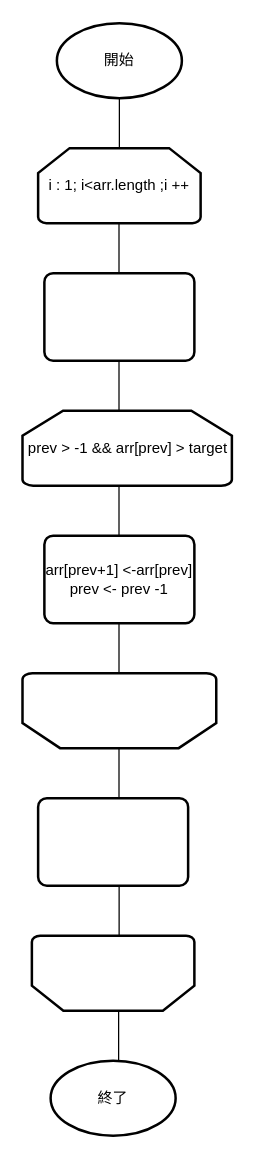
This 255x1158 diagram has some shape labels left out. The shapes that lost their labels are listed below. From the top down, each one's centre as x and y in pixels, then its label:
(x=118, y=316): target <- arr[j] prev <- i-1
(x=112, y=841): arr[prev+1] <-target
